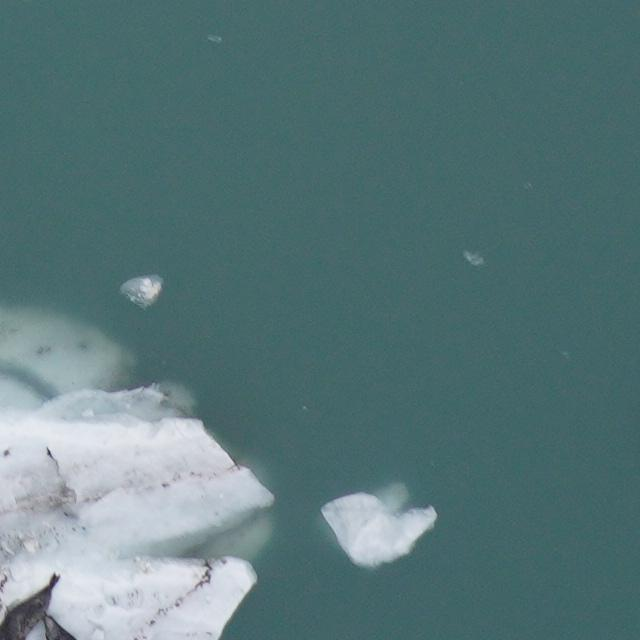seal: (0, 569, 65, 640)
